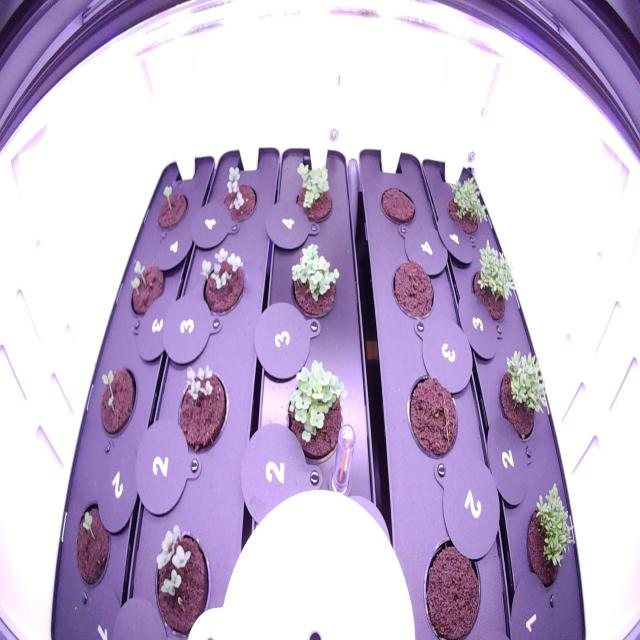germination: (280, 353, 350, 474), (148, 518, 216, 638), (519, 478, 579, 598), (172, 350, 234, 458), (494, 342, 555, 447), (286, 238, 346, 326), (462, 240, 521, 328), (69, 497, 118, 596), (94, 356, 142, 444), (195, 243, 249, 320), (442, 168, 495, 240), (290, 158, 340, 232), (124, 254, 171, 325), (217, 161, 259, 228), (150, 180, 192, 238)
pod: (416, 523, 486, 639), (404, 368, 461, 470), (388, 250, 438, 330), (375, 180, 419, 234)
